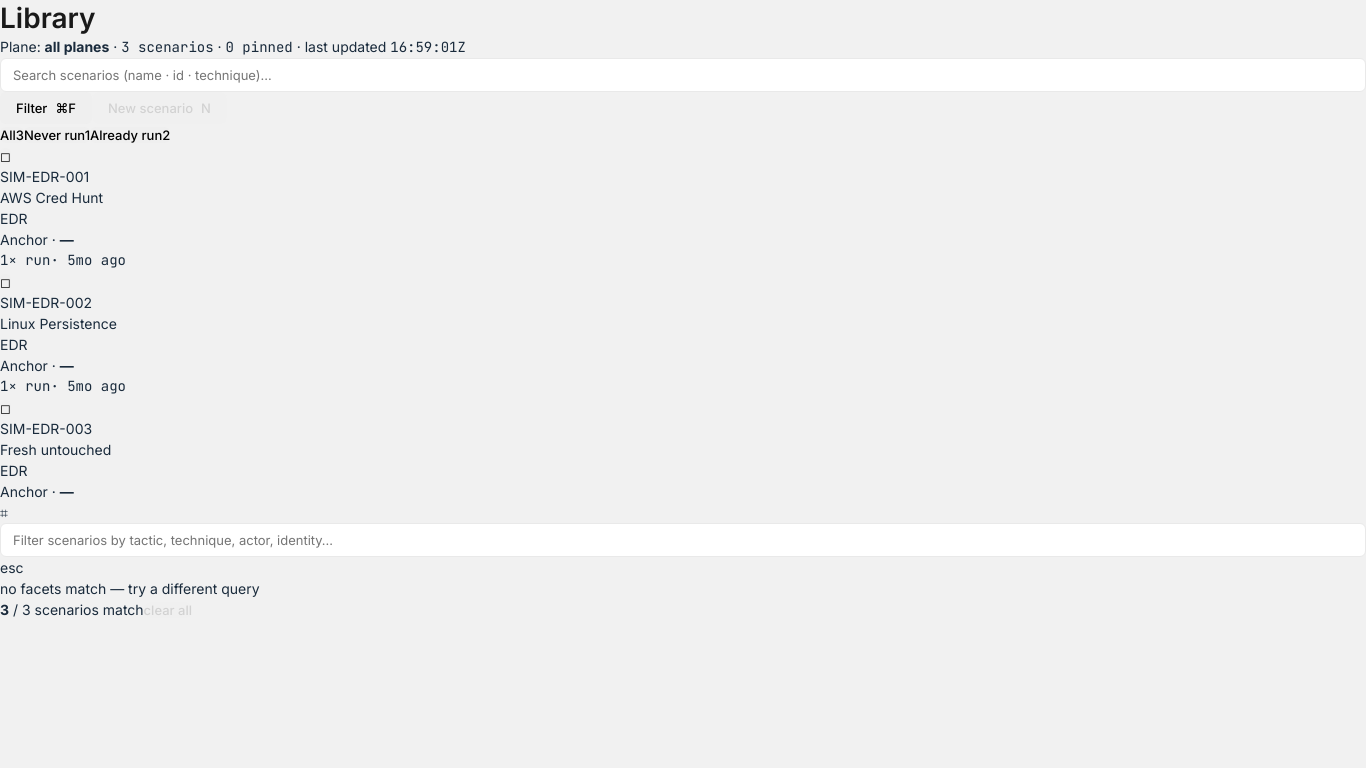
OperationsView history mode strip › clicking "Already run" filters out untouched scenarios
Expected: the text "AWS Cred Hunt" is shown, [0,189,103,206]
Click the tab "Already run2" at (130, 135), box [90,127,170,143]
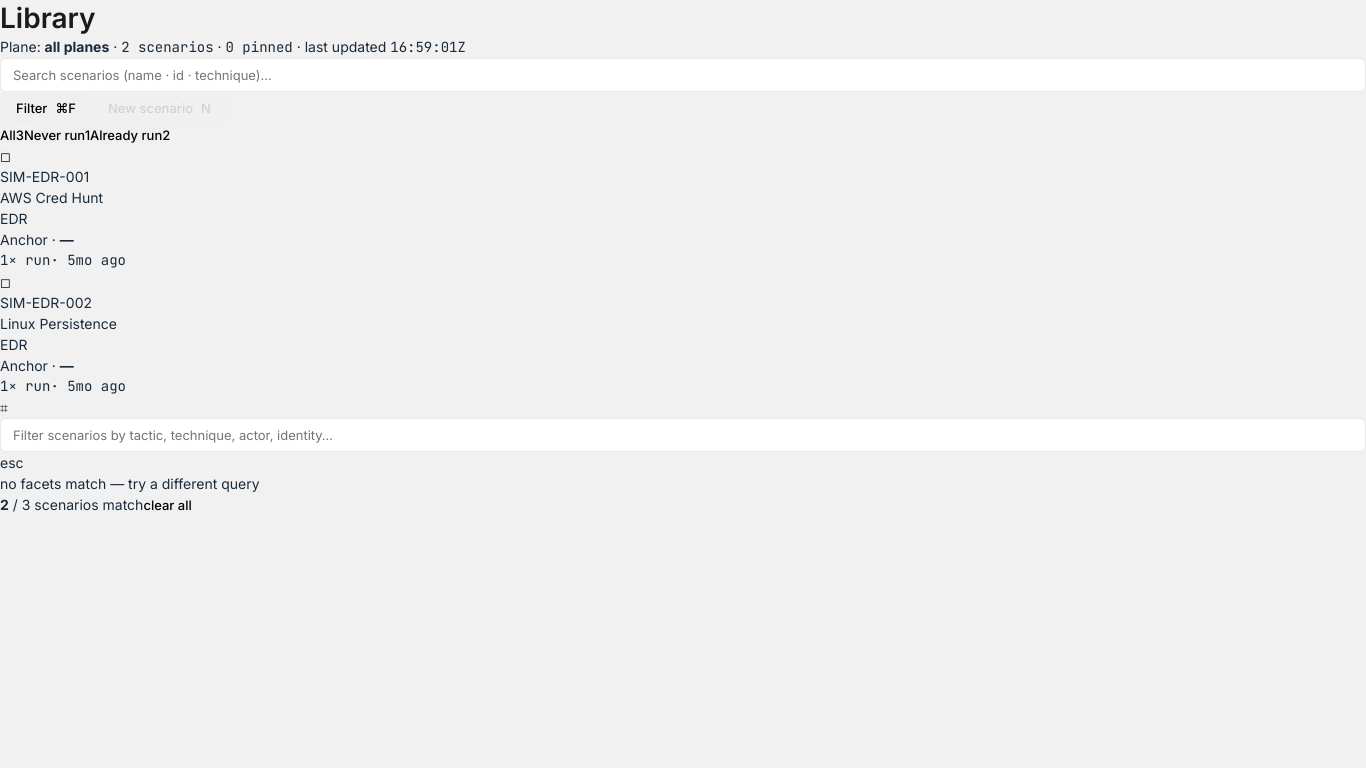
Expected: the text "AWS Cred Hunt" is shown, [0,189,103,206]
Expected: the button "Fresh untouched" is gone
